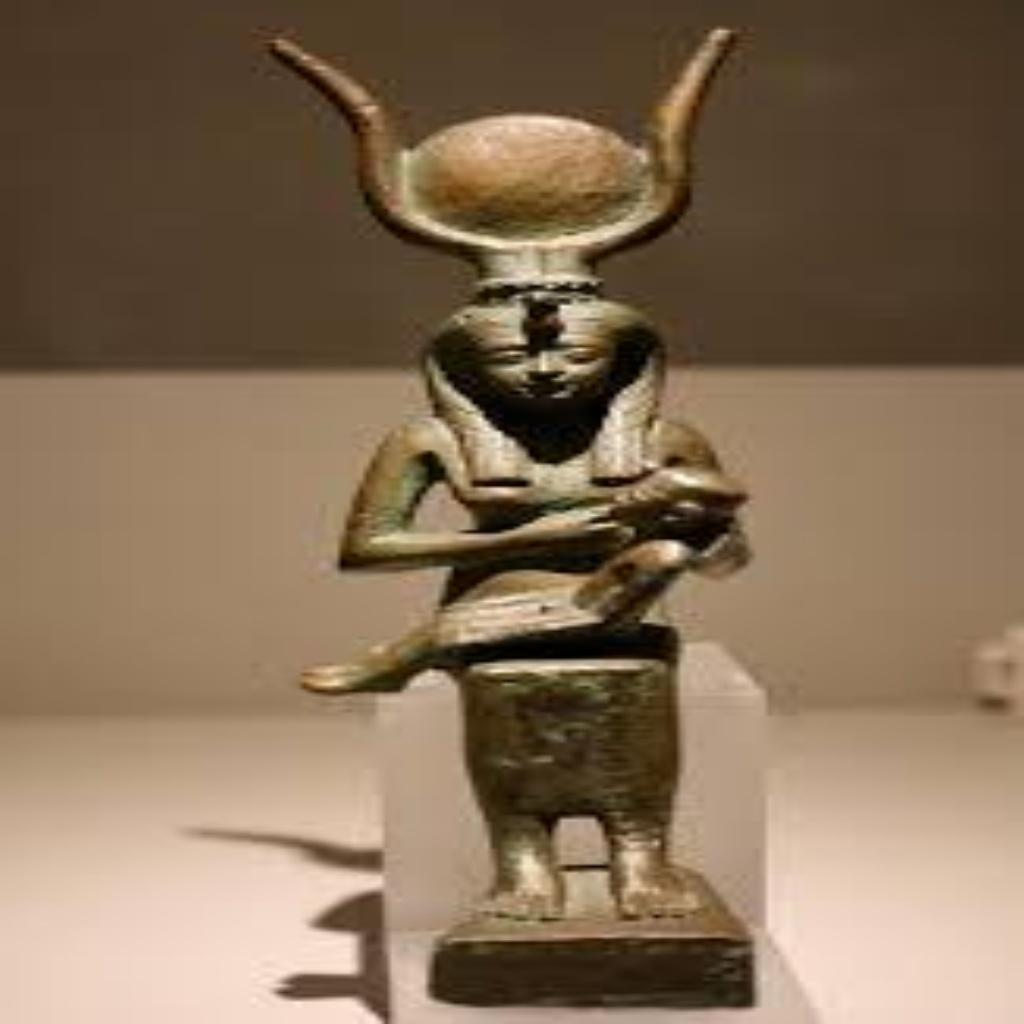Isis with her child: (245, 20, 779, 1008)
